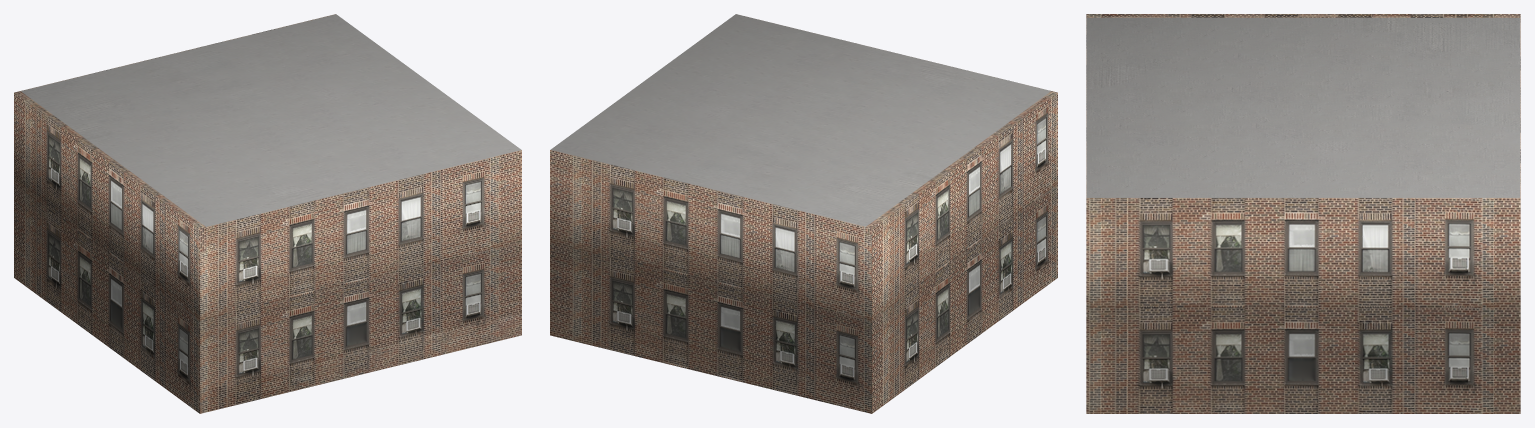
Rendered from SurroundingEnvironment_BuildingStackable1.fbx.
The picture shows the model from 3 angles, left to right: view 1: azimuth 30°, elevation 25°; view 2: azimuth 150°, elevation 25°; view 3: azimuth 270°, elevation 25°; orthographic projection. The views are drawn at different scales.
Visible parts, largest first — view 1: LowPolyBuilding1; view 2: LowPolyBuilding1; view 3: LowPolyBuilding1.
Part boxes in pixels (left/top/right/bottom): LowPolyBuilding1: left=14, top=14, right=521, bottom=413; LowPolyBuilding1: left=550, top=14, right=1057, bottom=413; LowPolyBuilding1: left=1086, top=14, right=1520, bottom=413.
Size of the model in its own units: 1040 by 573 by 1040.
